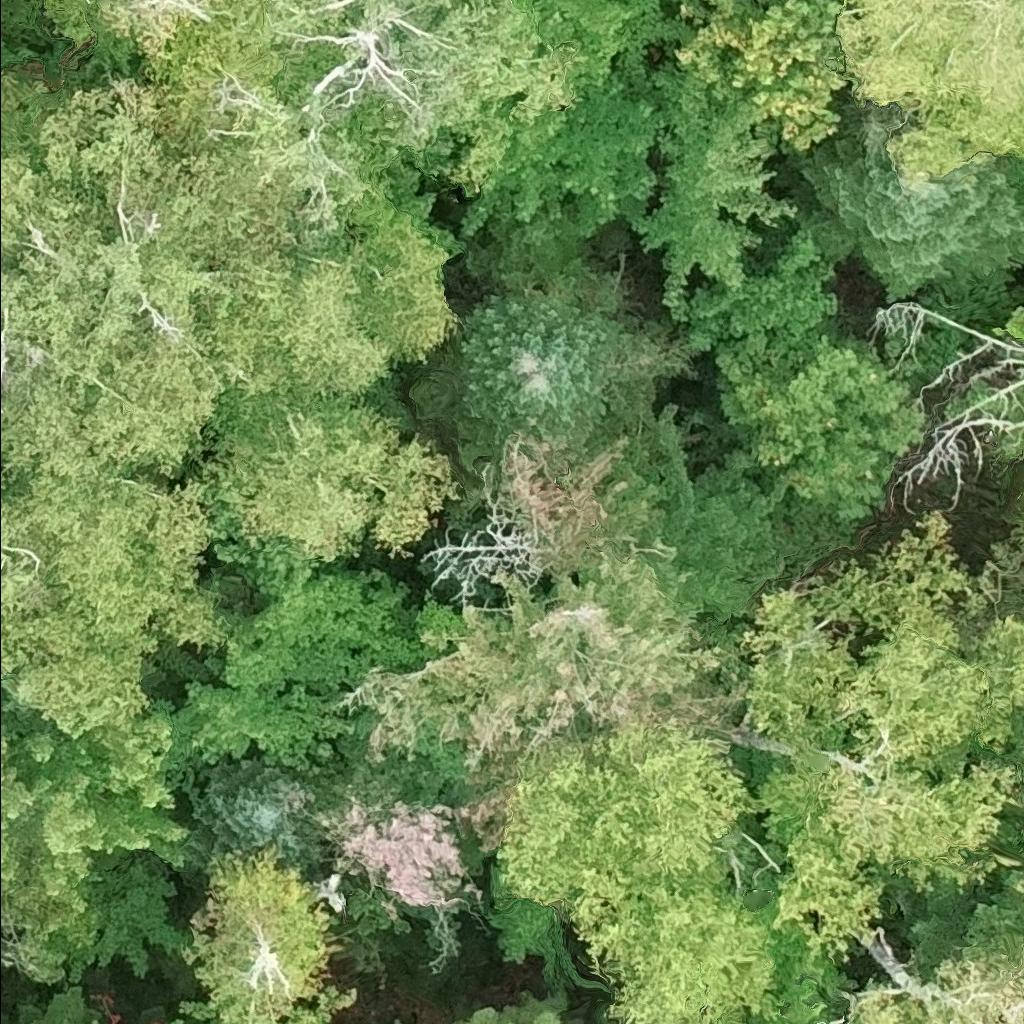crown: (317, 409, 786, 954), (0, 11, 363, 390), (735, 512, 1023, 963), (0, 236, 249, 737), (501, 715, 775, 1023), (164, 560, 472, 810), (0, 702, 193, 989), (195, 387, 462, 575), (797, 103, 1023, 303), (250, 185, 456, 398), (626, 63, 792, 322), (456, 255, 667, 448), (463, 73, 669, 250), (836, 0, 1023, 191), (720, 342, 922, 517), (620, 420, 783, 620), (874, 302, 1023, 513), (672, 0, 846, 151), (188, 847, 328, 1023), (690, 227, 839, 389), (182, 754, 330, 890), (837, 943, 1023, 1023), (0, 472, 48, 615), (451, 990, 590, 1023), (21, 992, 93, 1023), (275, 998, 330, 1023), (217, 1017, 245, 1023), (178, 1023, 186, 1023)
